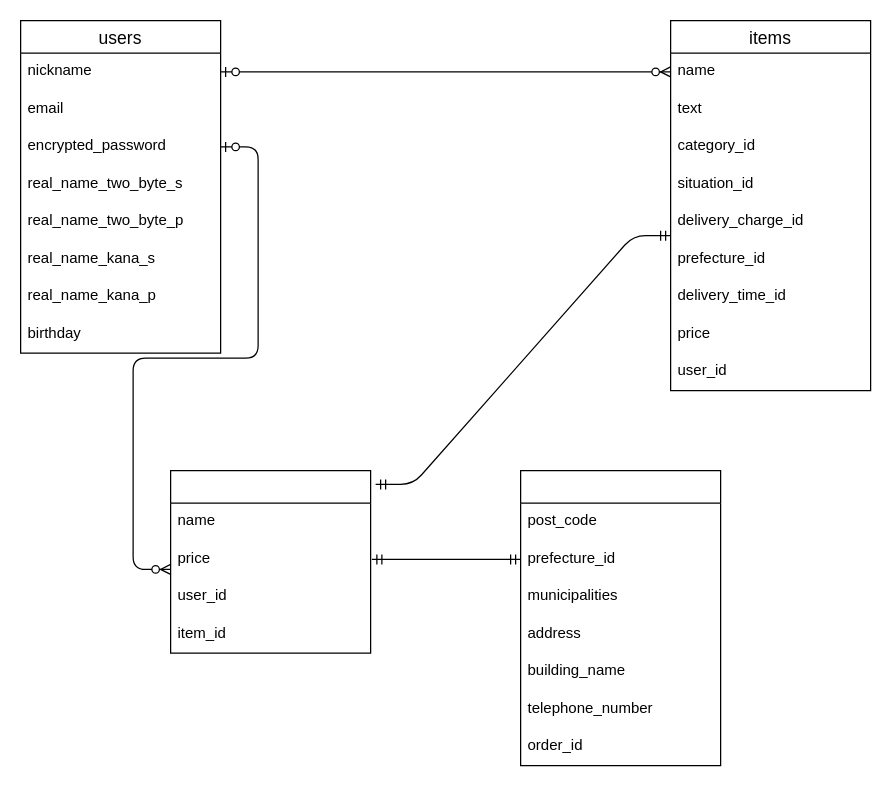
Image size: 891x786. Some labels were removed from this diagram. Here are the shapes that lost their labels. From the top down, the box of each, then its label:
(169, 469, 371, 653): orders
(519, 469, 721, 766): addresses
